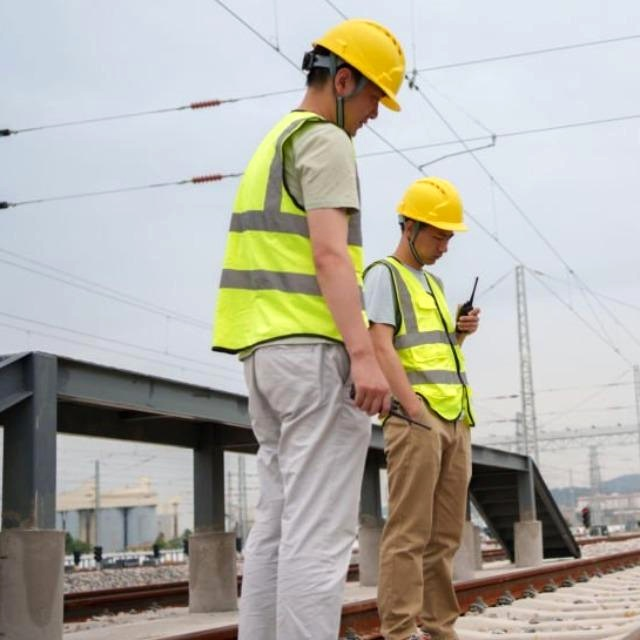Con_Casco: (303, 13, 407, 139), (395, 174, 467, 260)
Con_Chaleco: (220, 114, 368, 348), (367, 256, 473, 428)
